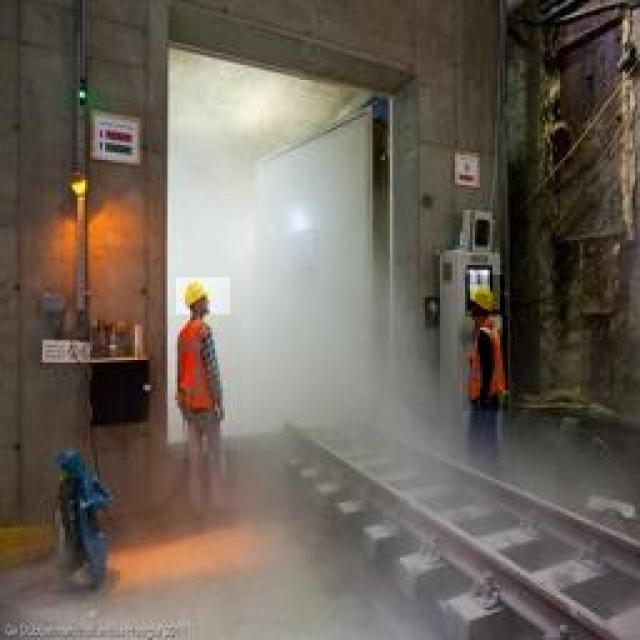Helmet: (176, 278, 230, 328), (465, 276, 504, 334)
Safety Vest: (164, 315, 242, 433), (462, 316, 508, 411)
